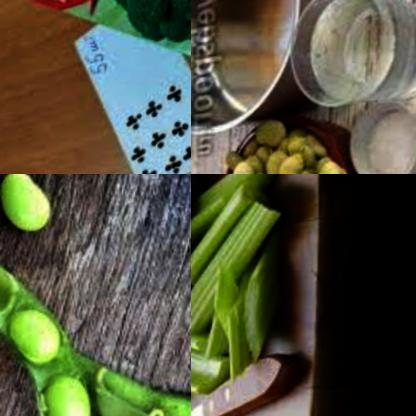beans: (0, 225, 191, 416), (0, 279, 104, 416), (202, 114, 340, 174), (0, 174, 64, 254)
celery: (191, 199, 295, 416), (191, 174, 283, 276)
